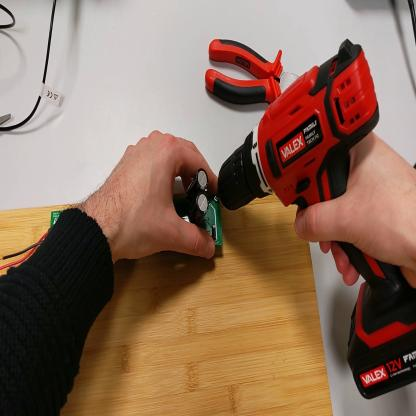electric screwdriver: (216, 39, 416, 400)
hand: (291, 129, 414, 288), (104, 130, 222, 266)
high voltage board: (2, 179, 228, 273)
pliers: (205, 37, 301, 103)
working area: (2, 191, 334, 415)
